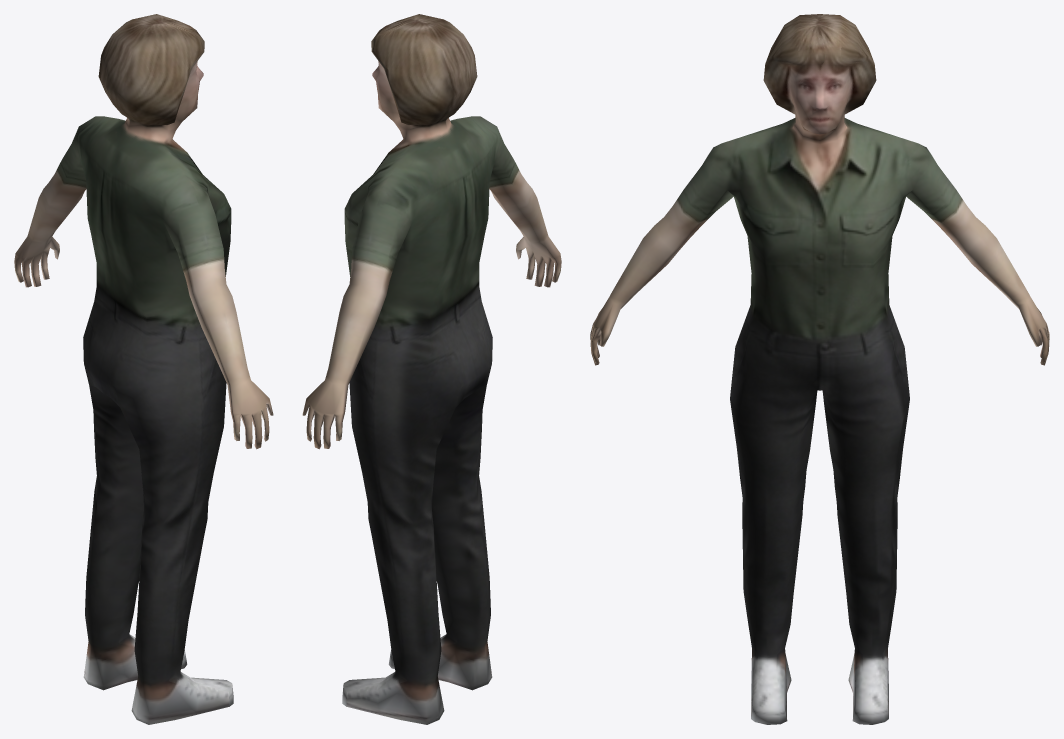
File: Character_48_Female.fbx
3 renders of one model, left to right at view 1: azimuth 30°, elevation 25°; view 2: azimuth 150°, elevation 25°; view 3: azimuth 270°, elevation 25°, orthographic.
Parts seen in each view (by area): view 1: Character_48_Female; view 2: Character_48_Female; view 3: Character_48_Female.
Part boxes in pixels (x1=…): Character_48_Female: x1=14, y1=14, x2=273, y2=724; Character_48_Female: x1=302, y1=14, x2=561, y2=724; Character_48_Female: x1=590, y1=14, x2=1049, y2=724.
Size of the model in its own units: 0.2845 by 1.65 by 1.01.
